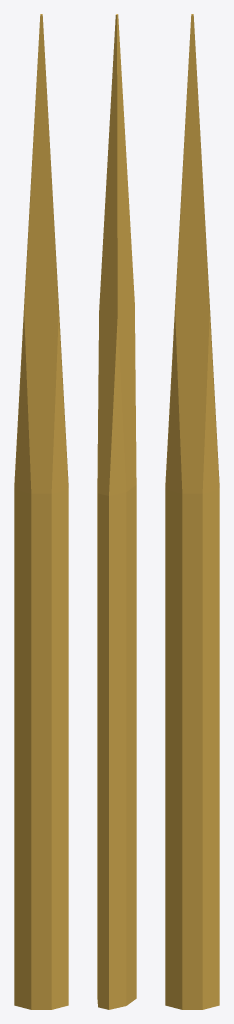
Rendered from golden_whisker.fbx.
3 views of the same model, side by side, from view 1: azimuth 90°, elevation 25°; view 2: azimuth 150°, elevation 25°; view 3: azimuth 270°, elevation 25° (orthographic).
Visible parts, largest first — view 1: Cube; view 2: Cube; view 3: Cube.
Boxes of the visible parts, x1,y1,x2,y2 form: Cube: (14,14,68,1009); Cube: (97,14,136,1009); Cube: (165,14,219,1009).
Bounding box in the file's own units: 67.9 × 2200 × 109.
